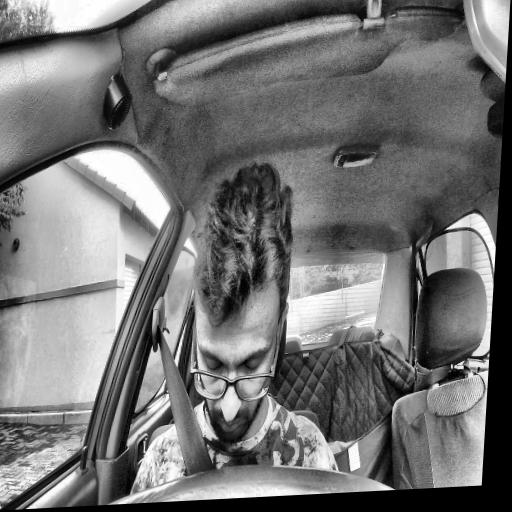drowsy: (183, 157, 300, 449)
